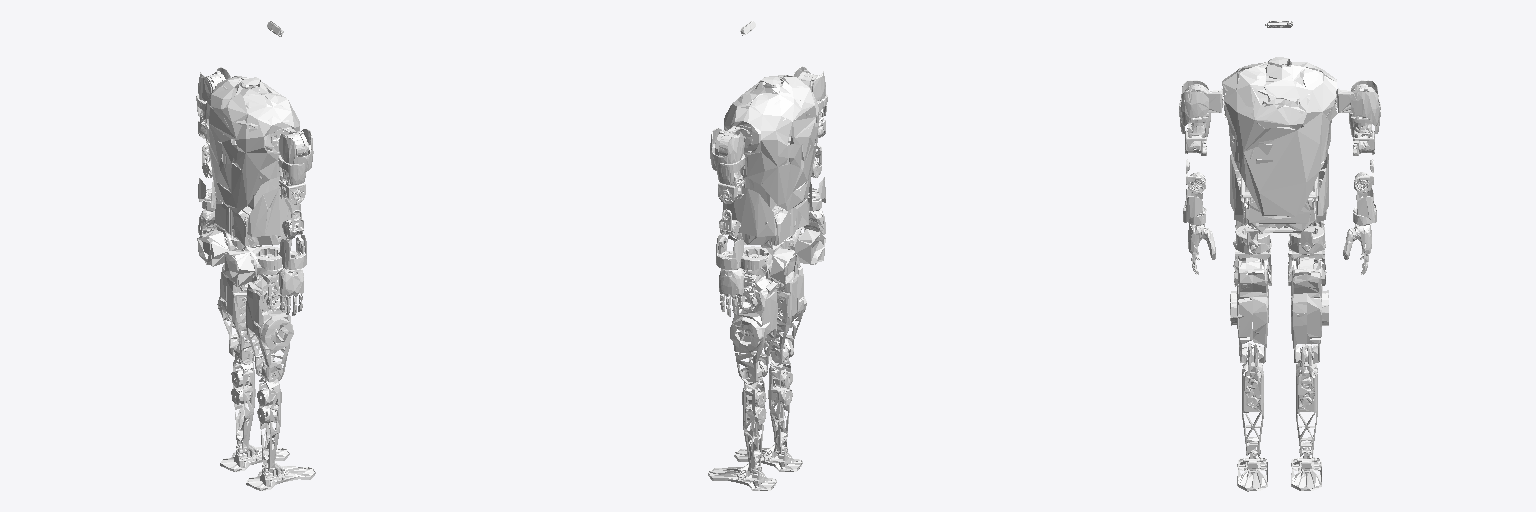
--- Facts derived from the render (not from the file) ---
Views: 3 orthographic renders of the robot side by side, from view 1: azimuth 30°, elevation 25°; view 2: azimuth 150°, elevation 25°; view 3: azimuth 270°, elevation 25°.
Robot: biped_s42 — 46 links, 45 joints (28 revolute, 16 fixed, 1 floating); root link dummy_link; default pose: every joint at zero.
Visible links, largest first — view 1: base_link, leg_r3_link, leg_l3_link, leg_l4_link, leg_r4_link, zarm_r7_link, leg_r6_link, leg_l6_link, zarm_r2_link, leg_r1_link, zarm_l7_link, zarm_r1_link (+1 smaller); view 2: base_link, leg_l3_link, leg_r3_link, leg_r4_link, leg_l4_link, zarm_l7_link, leg_l6_link, leg_r6_link, zarm_l2_link, leg_l1_link, zarm_r7_link, zarm_l1_link; view 3: base_link, leg_l3_link, leg_r3_link, leg_r4_link, leg_l4_link, zarm_l7_link, zarm_r7_link, leg_l6_link, leg_r6_link, zarm_r2_link, zarm_l2_link, leg_r1_link (+3 smaller).
Link boxes in pixels (x1=…): base_link: x1=197, y1=76, x2=300, y2=286; leg_r3_link: x1=246, y1=277, x2=293, y2=383; leg_l3_link: x1=217, y1=263, x2=263, y2=364; leg_l4_link: x1=231, y1=339, x2=255, y2=452; leg_r4_link: x1=257, y1=357, x2=281, y2=472; zarm_r7_link: x1=278, y1=235, x2=306, y2=315; leg_r6_link: x1=246, y1=462, x2=315, y2=490; leg_l6_link: x1=220, y1=443, x2=289, y2=471; zarm_r2_link: x1=279, y1=129, x2=313, y2=171; leg_r1_link: x1=250, y1=246, x2=282, y2=275; zarm_l7_link: x1=198, y1=178, x2=216, y2=235; zarm_r1_link: x1=271, y1=127, x2=308, y2=156; base_link: x1=723, y1=75, x2=825, y2=284; leg_l3_link: x1=730, y1=277, x2=777, y2=384; leg_r3_link: x1=764, y1=265, x2=806, y2=365; leg_r4_link: x1=768, y1=339, x2=792, y2=454; leg_l4_link: x1=742, y1=358, x2=766, y2=473; zarm_l7_link: x1=716, y1=234, x2=744, y2=316; leg_l6_link: x1=708, y1=463, x2=776, y2=490; leg_r6_link: x1=734, y1=444, x2=802, y2=471; zarm_l2_link: x1=710, y1=128, x2=744, y2=171; leg_l1_link: x1=740, y1=246, x2=772, y2=274; zarm_r7_link: x1=804, y1=177, x2=825, y2=234; zarm_l1_link: x1=715, y1=126, x2=752, y2=156; base_link: x1=1222, y1=57, x2=1337, y2=253; leg_l3_link: x1=1291, y1=257, x2=1328, y2=363; leg_r3_link: x1=1230, y1=257, x2=1268, y2=363; leg_r4_link: x1=1242, y1=343, x2=1263, y2=456; leg_l4_link: x1=1296, y1=344, x2=1317, y2=456; zarm_l7_link: x1=1343, y1=188, x2=1376, y2=274; zarm_r7_link: x1=1183, y1=188, x2=1215, y2=274; leg_l6_link: x1=1291, y1=447, x2=1321, y2=490; leg_r6_link: x1=1237, y1=448, x2=1267, y2=491; zarm_r2_link: x1=1179, y1=80, x2=1208, y2=125; zarm_l2_link: x1=1350, y1=80, x2=1380, y2=125; leg_r1_link: x1=1233, y1=223, x2=1271, y2=254.
Bounding box of the posed robot: 0.3173 × 0.6499 × 1.63 m (x, y, z).
Meshes: 31 distinct files referenced, 26 mesh visuals loaded (26 binary STL); not drawn: 5 (reference not matched to a file when rendering).

URDF robot description (biped_s42):
<?xml version='1.0' encoding='utf-8'?>
<robot name="biped_s42">
  <mujoco>
    <compiler meshdir="../meshes/" balanceinertia="true" discardvisual="false" />
  </mujoco>
  <link name="dummy_link" />
  <link name="base_link">
    <inertial>
      <origin xyz="-0.0185005 0.00031952 0.1929569" rpy="0 0 0" />
      <mass value="22.92233803" />
      <inertia ixx="0.93103133" ixy="0.00011763" ixz="-0.07210993" iyy="0.82590532" iyz="6.88e-06" izz="0.27686612" />
    </inertial>
    <visual>
      <origin xyz="0 0 0" rpy="0 0 0" />
      <geometry>
        <mesh filename="package://kuavo_assets/models/biped_s42/meshes/torso.STL" />
      </geometry>
      <material name="">
        <color rgba="1 1 1 1" />
      </material>
    </visual>
  </link>
  <joint name="dummy_to_base_link" type="floating">
    <origin xyz="0 0 0" rpy="0 0 0" />
    <parent link="dummy_link" />
    <child link="base_link" />
  </joint>
  <link name="leg_l1_link">
    <inertial>
      <origin xyz="-0.00430148 -2.708e-05 -0.00851195" rpy="0 0 0" />
      <mass value="1.71093115" />
      <inertia ixx="0.00206092" ixy="1.97e-06" ixz="6.944e-05" iyy="0.00277274" iyz="-5.1e-06" izz="0.00370826" />
    </inertial>
    <visual>
      <origin xyz="0 0 0" rpy="0 0 0" />
      <geometry>
        <mesh filename="package://kuavo_assets/models/biped_s42/meshes/l_leg_roll.STL" />
      </geometry>
      <material name="">
        <color rgba="1 1 1 1" />
      </material>
    </visual>
  </link>
  <joint name="leg_l1_joint" type="revolute">
    <origin xyz="-0.0024999 0.087 -0.066" rpy="0 0 0" />
    <parent link="base_link" />
    <child link="leg_l1_link" />
    <axis xyz="1 0 0" />
    <limit lower="-0.314159265358979" upper="0.663225115757845" effort="180.0" velocity="23.55" />
  </joint>
  <link name="leg_l2_link">
    <inertial>
      <origin xyz="0.0 -0.00231118 -0.09062539" rpy="0 0 0" />
      <mass value="0.58029165" />
      <inertia ixx="0.00223984" ixy="0.0" ixz="3e-08" iyy="0.00123175" iyz="-6.98e-06" izz="0.00146391" />
    </inertial>
    <visual>
      <origin xyz="0 0 0" rpy="0 0 0" />
      <geometry>
        <mesh filename="package://kuavo_assets/models/biped_s42/meshes/l_leg_yaw.STL" />
      </geometry>
      <material name="">
        <color rgba="1 1 1 1" />
      </material>
    </visual>
  </link>
  <joint name="leg_l2_joint" type="revolute">
    <origin xyz="0 0 0" rpy="0 0 0" />
    <parent link="leg_l1_link" />
    <child link="leg_l2_link" />
    <axis xyz="0 0 1" />
    <limit lower="-0.872664625997165" upper="0.785398163397448" effort="100.0" velocity="41.3433333333333" />
  </joint>
  <link name="leg_l3_link">
    <inertial>
      <origin xyz="0.00150537 0.01199614 -0.08411619" rpy="0 0 0" />
      <mass value="4.50393141" />
      <inertia ixx="0.0389365" ixy="7.866e-05" ixz="0.00102086" iyy="0.03942609" iyz="0.00219138" izz="0.00999961" />
    </inertial>
    <visual>
      <origin xyz="0 0 0" rpy="0 0 0" />
      <geometry>
        <mesh filename="package://kuavo_assets/models/biped_s42/meshes/l_leg_pitch.STL" />
      </geometry>
      <material name="">
        <color rgba="1 1 1 1" />
      </material>
    </visual>
  </link>
  <joint name="leg_l3_joint" type="revolute">
    <origin xyz="0.000500354536093913 -0.00100000000000011 -0.1287" rpy="0 0 0" />
    <parent link="leg_l2_link" />
    <child link="leg_l3_link" />
    <axis xyz="0 1 0" />
    <limit lower="-2.00712863979348" upper="1.5707963267949" effort="100.0" velocity="41.3433333333333" />
  </joint>
  <link name="leg_l4_link">
    <inertial>
      <origin xyz="0.00696242 5.314e-05 -0.11549851" rpy="0 0 0" />
      <mass value="1.62776815" />
      <inertia ixx="0.01243912" ixy="-2.29e-06" ixz="5.881e-05" iyy="0.01229563" iyz="-2.895e-05" izz="0.00097937" />
    </inertial>
    <visual>
      <origin xyz="0 0 0" rpy="0 0 0" />
      <geometry>
        <mesh filename="package://kuavo_assets/models/biped_s42/meshes/l_knee.STL" />
      </geometry>
      <material name="">
        <color rgba="1 1 1 1" />
      </material>
    </visual>
  </link>
  <joint name="leg_l4_joint" type="revolute">
    <origin xyz="-6.87185435835039E-05 0 -0.284" rpy="0 0 0" />
    <parent link="leg_l3_link" />
    <child link="leg_l4_link" />
    <axis xyz="0 1 0" />
    <limit lower="0.0" upper="2.53072741539178" effort="180.0" velocity="23.55" />
  </joint>
  <link name="leg_l5_link">
    <inertial>
      <origin xyz="0.0 0.0 0.0" rpy="0 0 0" />
      <mass value="0.07193524" />
      <inertia ixx="6.92e-06" ixy="0.0" ixz="0.0" iyy="6.92e-06" iyz="0.0" izz="1.218e-05" />
    </inertial>
    <visual>
      <origin xyz="0 0 0" rpy="0 0 0" />
      <geometry>
        <mesh filename="package://kuavo_assets/models/biped_s42/meshes/l_foot_pitch.STL" />
      </geometry>
      <material name="">
        <color rgba="1 1 1 1" />
      </material>
    </visual>
  </link>
  <joint name="leg_l5_joint" type="revolute">
    <origin xyz="-0.000431635992531742 0 -0.346000000000001" rpy="0 0 0" />
    <parent link="leg_l4_link" />
    <child link="leg_l5_link" />
    <axis xyz="0 1 0" />
    <limit lower="-0.872664625997165" upper="0.349065850398866" effort="36.0" velocity="23.0266666666667" />
  </joint>
  <link name="leg_l6_link">
    <inertial>
      <origin xyz="0.03732754 -2.22e-06 -0.03883977" rpy="0 0 0" />
      <mass value="0.49861272" />
      <inertia ixx="0.00039242" ixy="3e-08" ixz="4.664e-05" iyy="0.00158655" iyz="0.0" izz="0.00172576" />
    </inertial>
    <visual>
      <origin xyz="0 0 0" rpy="0 0 0" />
      <geometry>
        <mesh filename="package://kuavo_assets/models/biped_s42/meshes/l_foot_roll.STL" />
      </geometry>
      <material name="">
        <color rgba="1 1 1 1" />
      </material>
    </visual>
  </link>
  <joint name="leg_l6_joint" type="revolute">
    <origin xyz="0 0 0" rpy="0 0 0" />
    <parent link="leg_l5_link" />
    <child link="leg_l6_link" />
    <axis xyz="1 0 0" />
    <limit lower="-0.261799387799149" upper="0.261799387799149" effort="36.0" velocity="23.0266666666667" />
  </joint>
  <link name="ll_foot_toe">
    <collision>
      <origin rpy="0 0 0" xyz="0 0 0" />
      <geometry>
        <sphere radius="0.005" />
      </geometry>
    </collision>
  </link>
  <joint name="ll_foot_toe_joint" type="fixed">
    <origin xyz="0.17084 0.04773 -0.0595" rpy="0 0 0" />
    <parent link="leg_l6_link" />
    <child link="ll_foot_toe" />
  </joint>
  <link name="ll_foot_heel">
    <collision>
      <origin rpy="0 0 0" xyz="0 0 0" />
      <geometry>
        <sphere radius="0.005" />
      </geometry>
    </collision>
  </link>
  <joint name="ll_foot_heel_joint" type="fixed">
    <origin xyz="-0.073164 0.04773 -0.0595" rpy="0 0 0" />
    <parent link="leg_l6_link" />
    <child link="ll_foot_heel" />
  </joint>
  <link name="lr_foot_toe">
    <collision>
      <origin rpy="0 0 0" xyz="0 0 0" />
      <geometry>
        <sphere radius="0.005" />
      </geometry>
    </collision>
  </link>
  <joint name="lr_foot_toe_joint" type="fixed">
    <origin xyz="0.17084 -0.04773 -0.0595" rpy="0 0 0" />
    <parent link="leg_l6_link" />
    <child link="lr_foot_toe" />
  </joint>
  <link name="lr_foot_heel">
    <collision>
      <origin rpy="0 0 0" xyz="0 0 0" />
      <geometry>
        <sphere radius="0.005" />
      </geometry>
    </collision>
  </link>
  <joint name="lr_foot_heel_joint" type="fixed">
    <origin xyz="-0.073164 -0.04773 -0.0595" rpy="0 0 0" />
    <parent link="leg_l6_link" />
    <child link="lr_foot_heel" />
  </joint>
  <link name="l_foot_toe">
    <collision>
      <origin rpy="0 0 0" xyz="0 0 0" />
      <geometry>
        <sphere radius="0.005" />
      </geometry>
    </collision>
  </link>
  <joint name="l_foot_toe_joint" type="fixed">
    <origin xyz="0.17084 0.0 -0.0595" rpy="0 0 0" />
    <parent link="leg_l6_link" />
    <child link="l_foot_toe" />
  </joint>
  <link name="l_foot_heel">
    <collision>
      <origin rpy="0 0 0" xyz="0 0 0" />
      <geometry>
        <sphere radius="0.005" />
      </geometry>
    </collision>
  </link>
  <joint name="l_foot_heel_joint" type="fixed">
    <origin xyz="-0.073164 0.0 -0.0595" rpy="0 0 0" />
    <parent link="leg_l6_link" />
    <child link="l_foot_heel" />
  </joint>
  <link name="leg_r1_link">
    <inertial>
      <origin xyz="-0.00430146 2.709e-05 -0.00851195" rpy="0 0 0" />
      <mass value="1.71093008" />
      <inertia ixx="0.00206092" ixy="-1.97e-06" ixz="6.944e-05" iyy="0.00277274" iyz="5.1e-06" izz="0.00370826" />
    </inertial>
    <visual>
      <origin xyz="0 0 0" rpy="0 0 0" />
      <geometry>
        <mesh filename="package://kuavo_assets/models/biped_s42/meshes/r_leg_roll.STL" />
      </geometry>
      <material name="">
        <color rgba="1 1 1 1" />
      </material>
    </visual>
  </link>
  <joint name="leg_r1_joint" type="revolute">
    <origin xyz="-0.0024999 -0.087 -0.066" rpy="0 0 0" />
    <parent link="base_link" />
    <child link="leg_r1_link" />
    <axis xyz="1 0 0" />
    <limit lower="-0.663225115757845" upper="0.314159265358979" effort="180.0" velocity="23.55" />
  </joint>
  <link name="leg_r2_link">
    <inertial>
      <origin xyz="0.0 0.00231118 -0.09062539" rpy="0 0 0" />
      <mass value="0.58029165" />
      <inertia ixx="0.00223984" ixy="0.0" ixz="-3e-08" iyy="0.00123175" iyz="6.98e-06" izz="0.00146391" />
    </inertial>
    <visual>
      <origin xyz="0 0 0" rpy="0 0 0" />
      <geometry>
        <mesh filename="package://kuavo_assets/models/biped_s42/meshes/r_leg_yaw.STL" />
      </geometry>
      <material name="">
        <color rgba="1 1 1 1" />
      </material>
    </visual>
  </link>
  <joint name="leg_r2_joint" type="revolute">
    <origin xyz="0 0 0" rpy="0 0 0" />
    <parent link="leg_r1_link" />
    <child link="leg_r2_link" />
    <axis xyz="0 0 1" />
    <limit lower="-0.785398163397448" upper="0.872664625997165" effort="100.0" velocity="41.3433333333333" />
  </joint>
  <link name="leg_r3_link">
    <inertial>
      <origin xyz="0.00208315 -0.01199644 -0.08411379" rpy="0 0 0" />
      <mass value="4.50385993" />
      <inertia ixx="0.03893478" ixy="-7.792e-05" ixz="0.00103064" iyy="0.03942522" iyz="-0.00219154" izz="0.01000016" />
    </inertial>
    <visual>
      <origin xyz="0 0 0" rpy="0 0 0" />
      <geometry>
        <mesh filename="package://kuavo_assets/models/biped_s42/meshes/r_leg_pitch.STL" />
      </geometry>
      <material name="">
        <color rgba="1 1 1 1" />
      </material>
    </visual>
  </link>
  <joint name="leg_r3_joint" type="revolute">
    <origin xyz="-4.88006581312577E-05 0 -0.1287" rpy="0 0 0" />
    <parent link="leg_r2_link" />
    <child link="leg_r3_link" />
    <axis xyz="0 1 0" />
    <limit lower="-2.00712863979348" upper="1.5707963267949" effort="100.0" velocity="41.3433333333333" />
  </joint>
  <link name="leg_r4_link">
    <inertial>
      <origin xyz="0.00743231 -5.343e-05 -0.11558701" rpy="0 0 0" />
      <mass value="1.62655699" />
      <inertia ixx="0.01241258" ixy="2.28e-06" ixz="6.289e-05" iyy="0.0122692" iyz="2.902e-05" izz="0.00097927" />
    </inertial>
    <visual>
      <origin xyz="0 0 0" rpy="0 0 0" />
      <geometry>
        <mesh filename="package://kuavo_assets/models/biped_s42/meshes/r_knee.STL" />
      </geometry>
      <material name="">
        <color rgba="1 1 1 1" />
      </material>
    </visual>
  </link>
  <joint name="leg_r4_joint" type="revolute">
    <origin xyz="0.000147138572785148 0 -0.283999982974744" rpy="0 0 0" />
    <parent link="leg_r3_link" />
    <child link="leg_r4_link" />
    <axis xyz="0 1 0" />
    <limit lower="0.0" upper="2.53072741539178" effort="180.0" velocity="23.55" />
  </joint>
  <link name="leg_r5_link">
    <inertial>
      <origin xyz="0.0 0.0 0.0" rpy="0 0 0" />
      <mass value="0.07193524" />
      <inertia ixx="6.92e-06" ixy="0.0" ixz="0.0" iyy="6.92e-06" iyz="0.0" izz="1.218e-05" />
    </inertial>
    <visual>
      <origin xyz="0 0 0" rpy="0 0 0" />
      <geometry>
        <mesh filename="package://kuavo_assets/models/biped_s42/meshes/r_foot_pitch.STL" />
      </geometry>
      <material name="">
        <color rgba="1 1 1 1" />
      </material>
    </visual>
  </link>
  <joint name="leg_r5_joint" type="revolute">
    <origin xyz="0.000119806050928577 0 -0.345999979257963" rpy="0 0 0" />
    <parent link="leg_r4_link" />
    <child link="leg_r5_link" />
    <axis xyz="0 1 0" />
    <limit lower="-0.872664625997165" upper="0.349065850398866" effort="36.0" velocity="23.0266666666667" />
  </joint>
  <link name="leg_r6_link">
    <inertial>
      <origin xyz="0.03734098 -2.22e-06 -0.03882684" rpy="0 0 0" />
      <mass value="0.49861272" />
      <inertia ixx="0.00039238" ixy="3e-08" ixz="4.618e-05" iyy="0.00158655" iyz="0.0" izz="0.00172579" />
    </inertial>
    <visual>
      <origin xyz="0 0 0" rpy="0 0 0" />
      <geometry>
        <mesh filename="package://kuavo_assets/models/biped_s42/meshes/r_foot_roll.STL" />
      </geometry>
      <material name="">
        <color rgba="1 1 1 1" />
      </material>
    </visual>
  </link>
  <joint name="leg_r6_joint" type="revolute">
    <origin xyz="0 0 0" rpy="0 0 0" />
    <parent link="leg_r5_link" />
    <child link="leg_r6_link" />
    <axis xyz="1 0 0" />
    <limit lower="-0.261799387799149" upper="0.261799387799149" effort="36.0" velocity="23.0266666666667" />
  </joint>
  <link name="rl_foot_toe">
    <collision>
      <origin rpy="0 0 0" xyz="0 0 0" />
      <geometry>
        <sphere radius="0.005" />
      </geometry>
    </collision>
  </link>
  <joint name="rl_foot_toe_joint" type="fixed">
    <origin xyz="0.17084 0.04773 -0.0595" rpy="0 0 0" />
    <parent link="leg_r6_link" />
    <child link="rl_foot_toe" />
  </joint>
  <link name="rl_foot_heel">
    <collision>
      <origin rpy="0 0 0" xyz="0 0 0" />
      <geometry>
        <sphere radius="0.005" />
      </geometry>
    </collision>
  </link>
  <joint name="rl_foot_heel_joint" type="fixed">
    <origin xyz="-0.073164 0.04773 -0.0595" rpy="0 0 0" />
    <parent link="leg_r6_link" />
    <child link="rl_foot_heel" />
  </joint>
  <link name="rr_foot_toe">
    <collision>
      <origin rpy="0 0 0" xyz="0 0 0" />
      <geometry>
        <sphere radius="0.005" />
      </geometry>
    </collision>
  </link>
  <joint name="rr_foot_toe_joint" type="fixed">
    <origin xyz="0.17084 -0.04773 -0.0595" rpy="0 0 0" />
    <parent link="leg_r6_link" />
    <child link="rr_foot_toe" />
  </joint>
  <link name="rr_foot_heel">
    <collision>
      <origin rpy="0 0 0" xyz="0 0 0" />
      <geometry>
        <sphere radius="0.005" />
      </geometry>
    </collision>
  </link>
  <joint name="rr_foot_heel_joint" type="fixed">
    <origin xyz="-0.073164 -0.04773 -0.0595" rpy="0 0 0" />
    <parent link="leg_r6_link" />
    <child link="rr_foot_heel" />
  </joint>
  <link name="r_foot_toe">
    <collision>
      <origin rpy="0 0 0" xyz="0 0 0" />
      <geometry>
        <sphere radius="0.005" />
      </geometry>
    </collision>
  </link>
  <joint name="r_foot_toe_joint" type="fixed">
    <origin xyz="0.17084 0.0 -0.0595" rpy="0 0 0" />
    <parent link="leg_r6_link" />
    <child link="r_foot_toe" />
  </joint>
  <link name="r_foot_heel">
    <collision>
      <origin rpy="0 0 0" xyz="0 0 0" />
      <geometry>
        <sphere radius="0.005" />
      </geometry>
    </collision>
  </link>
  <joint name="r_foot_heel_joint" type="fixed">
    <origin xyz="-0.073164 0.0 -0.0595" rpy="0 0 0" />
    <parent link="leg_r6_link" />
    <child link="r_foot_heel" />
  </joint>
  <link name="zarm_l1_link">
    <inertial>
      <origin xyz="0.008 -0.00158 0.0036" rpy="0 0 0" />
      <mass value="1.15" />
      <inertia ixx="0.0006" ixy="5e-05" ixz="1e-05" iyy="0.00048" iyz="-6e-05" izz="0.0007" />
    </inertial>
    <visual>
      <origin xyz="0 0 0" rpy="0 0 0" />
      <geometry>
        <mesh filename="package://kuavo_assets/models/biped_s42/meshes/l_arm_pitch.STL" />
      </geometry>
      <material name="">
        <color rgba="1 1 1 1" />
      </material>
    </visual>
  </link>
  <joint name="zarm_l1_joint" type="revolute">
    <origin xyz="-0.017499853 0.26686 0.4245" rpy="0 0 0" />
    <parent link="base_link" />
    <child link="zarm_l1_link" />
    <axis xyz="0 1 0" />
    <limit lower="-2.61799387799149" upper="0.523598775598299" effort="100.0" velocity="41.3433333333333" />
  </joint>
  <link name="zarm_l2_link">
    <inertial>
      <origin xyz="0.00144 0.02159 -0.0202" rpy="0 0 0" />
      <mass value="0.226" />
      <inertia ixx="0.0003" ixy="3e-05" ixz="1e-05" iyy="0.00061" iyz="5e-05" izz="0.00057" />
    </inertial>
    <visual>
      <origin xyz="0 0 0" rpy="0 0 0" />
      <geometry>
        <mesh filename="package://kuavo_assets/models/biped_s42/meshes/l_arm_roll.STL" />
      </geometry>
      <material name="">
        <color rgba="1 1 1 1" />
      </material>
    </visual>
  </link>
  <joint name="zarm_l2_joint" type="revolute">
    <origin xyz="0 0 0" rpy="0 0 0" />
    <parent link="zarm_l1_link" />
    <child link="zarm_l2_link" />
    <axis xyz="1 0 0" />
    <limit lower="-0.349065850398866" upper="2.0943951023932" effort="50.0" velocity="19.154" />
  </joint>
  <link name="zarm_l3_link">
    <inertial>
      <origin xyz="-0.00157 -3e-05 -0.13318" rpy="0 0 0" />
      <mass value="1.166" />
      <inertia ixx="0.00245" ixy="-1e-05" ixz="-1e-05" iyy="0.0022" iyz="0.0" izz="0.00112" />
    </inertial>
    <visual>
      <origin xyz="0 0 0" rpy="0 0 0" />
      <geometry>
        <mesh filename="package://kuavo_assets/models/biped_s42/meshes/l_arm_yaw.STL" />
      </geometry>
      <material name="">
        <color rgba="1 1 1 1" />
      </material>
    </visual>
  </link>
  <joint name="zarm_l3_joint" type="revolute">
    <origin xyz="0 0 0" rpy="0 0 0" />
    <parent link="zarm_l2_link" />
    <child link="zarm_l3_link" />
    <axis xyz="0 0 1" />
    <limit lower="-1.5707963267949" upper="1.5707963267949" effort="20.0" velocity="18.84" />
  </joint>
  <link name="zarm_l4_link">
    <inertial>
      <origin xyz="-4e-05 0.0098 -0.05283" rpy="0 0 0" />
      <mass value="0.575" />
      <inertia ixx="0.00098" ixy="0.0" ixz="0.0" iyy="0.00062" iyz="-0.00016" izz="0.00088" />
    </inertial>
    <visual>
      <origin xyz="0 0 0" rpy="0 0 0" />
      <geometry>
        <mesh filename="package://kuavo_assets/models/biped_s42/meshes/l_forearm.STL" />
      </geometry>
      <material name="">
        <color rgba="1 1 1 1" />
      </material>
    </visual>
  </link>
  <joint name="zarm_l4_joint" type="revolute">
    <origin xyz="0 0 -0.1646" rpy="0 0 0" />
    <parent link="zarm_l3_link" />
    <child link="zarm_l4_link" />
    <axis xyz="0 1 0" />
    <limit lower="-1.5707963267949" upper="0.0" effort="20.0" velocity="18.84" />
  </joint>
  <link name="zarm_l5_link">
    <inertial>
      <origin xyz="-0.00011 0.00421 -0.11168" rpy="0 0 0" />
      <mass value="0.46" />
      <inertia ixx="0.00077" ixy="0.0" ixz="0.0" iyy="0.0005" iyz="-4e-05" izz="0.00063" />
    </inertial>
    <visual>
      <origin xyz="0 0 0" rpy="0 0 0" />
      <geometry>
        <mesh filename="package://kuavo_assets/models/biped_s42/meshes/l_hand_yaw.STL" />
      </geometry>
      <material name="">
        <color rgba="1 1 1 1" />
      </material>
    </visual>
  </link>
  <joint name="zarm_l5_joint" type="revolute">
    <origin xyz="0 0 0" rpy="0 0 0" />
    <parent link="zarm_l4_link" />
    <child link="zarm_l5_link" />
    <axis xyz="0 0 1" />
    <limit lower="-1.5707963267949" upper="1.5707963267949" effort="6.0" velocity="21.666" />
  </joint>
  <link name="zarm_l6_link">
    <inertial>
      <origin xyz="0.00253 0.00382 -0.05356" rpy="0 0 0" />
      <mass value="0.35" />
      <inertia ixx="0.00023" ixy="0.0" ixz="0.0" iyy="0.00024" iyz="-4e-05" izz="0.00019" />
    </inertial>
    <visual>
      <origin xyz="0 0 0" rpy="0 0 0" />
      <geometry>
        <mesh filename="package://kuavo_assets/models/biped_s42/meshes/l_hand_pitch.STL" />
      </geometry>
      <material name="">
        <color rgba="1 1 1 1" />
      </material>
    </visual>
  </link>
  <joint name="zarm_l6_joint" type="revolute">
    <origin xyz="0 0 -0.132050000125748" rpy="0 0 0" />
    <parent link="zarm_l5_link" />
    <child link="zarm_l6_link" />
    <axis xyz="0 1 0" />
    <limit lower="-1.5707963267949" upper="1.5707963267949" effort="6.0" velocity="21.666" />
  </joint>
  <link name="zarm_l7_link">
    <inertial>
      <origin xyz="0.00267 0.00748 -0.07162" rpy="0 0 0" />
      <mass value="0.81" />
      <inertia ixx="0.00117" ixy="2e-05" ixz="0.0" iyy="0.00128" iyz="-2e-05" izz="0.00036" />
    </inertial>
    <visual>
      <origin xyz="0 0 0" rpy="0 0 0" />
      <geometry>
        <mesh filename="package://kuavo_assets/models/biped_s42/meshes/l_hand_roll.STL" />
      </geometry>
      <material name="">
        <color rgba="1 1 1 1" />
      </material>
    </visual>
  </link>
  <joint name="zarm_l7_joint" type="revolute">
    <origin xyz="0 0 -0.0589999999999999" rpy="0 0 0" />
    <parent link="zarm_l6_link" />
    <child link="zarm_l7_link" />
    <axis xyz="1 0 0" />
    <limit lower="-1.5707963267949" upper="1.5707963267949" effort="6.0" velocity="21.666" />
  </joint>
  <link name="zarm_l7_end_effector">
    <collision>
      <origin rpy="0 0 0" xyz="0 0 0" />
      <geometry>
        <sphere radius="0.005" />
      </geometry>
    </collision>
  </link>
  <joint name="zarm_l7_end_effector_joint" type="fixed">
    <origin xyz="0 -0.03 -0.17" rpy="0 0 0" />
    <parent link="zarm_l7_link" />
    <child link="zarm_l7_end_effector" />
  </joint>
  <link name="zarm_r1_link">
    <inertial>
      <origin xyz="0.008 0.00158 -0.0036" rpy="0 0 0" />
      <mass value="1.15" />
      <inertia ixx="0.0006" ixy="-5e-05" ixz="-1e-05" iyy="0.00048" iyz="-6e-05" izz="0.0007" />
    </inertial>
    <visual>
      <origin xyz="0 0 0" rpy="0 0 0" />
      <geometry>
        <mesh filename="package://kuavo_assets/models/biped_s42/meshes/r_arm_pitch.STL" />
      </geometry>
      <material name="">
        <color rgba="1 1 1 1" />
      </material>
    </visual>
  </link>
  <joint name="zarm_r1_joint" type="revolute">
    <origin xyz="-0.017499853 -0.26686 0.4245" rpy="0 0 0" />
    <parent link="base_link" />
    <child link="zarm_r1_link" />
    <axis xyz="0 1 0" />
    <limit lower="-2.61799387799149" upper="0.523598775598299" effort="100.0" velocity="41.3433333333333" />
  </joint>
  <link name="zarm_r2_link">
    <inertial>
      <origin xyz="0.00144 -0.02159 -0.02021" rpy="0 0 0" />
      <mass value="0.226" />
      <inertia ixx="0.0003" ixy="-3e-05" ixz="1e-05" iyy="0.00061" iyz="-5e-05" izz="0.00057" />
    </inertial>
    <visual>
      <origin xyz="0 0 0" rpy="0 0 0" />
      <geometry>
        <mesh filename="package://kuavo_assets/models/biped_s42/meshes/r_arm_roll.STL" />
      </geometry>
      <material name="">
        <color rgba="1 1 1 1" />
      </material>
    </visual>
  </link>
  <joint name="zarm_r2_joint" type="revolute">
    <origin xyz="0 0 0" rpy="0 0 0" />
    <parent link="zarm_r1_link" />
    <child link="zarm_r2_link" />
    <axis xyz="1 0 0" />
    <limit lower="-2.0943951023932" upper="0.349065850398866" effort="50.0" velocity="19.154" />
  </joint>
  <link name="zarm_r3_link">
    <inertial>
      <origin xyz="-0.00157 3e-05 -0.13318" rpy="0 0 0" />
      <mass value="1.166" />
      <inertia ixx="0.00245" ixy="1e-05" ixz="-1e-05" iyy="0.0022" iyz="0.0" izz="0.00112" />
    </inertial>
    <visual>
      <origin xyz="0 0 0" rpy="0 0 0" />
      <geometry>
        <mesh filename="package://kuavo_assets/models/biped_s42/meshes/r_arm_yaw.STL" />
      </geometry>
      <material name="">
        <color rgba="1 1 1 1" />
      </material>
    </visual>
  </link>
  <joint name="zarm_r3_joint" type="revolute">
    <origin xyz="0 0 0" rpy="0 0 0" />
    <parent link="zarm_r2_link" />
    <child link="zarm_r3_link" />
    <axis xyz="0 0 1" />
    <limit lower="-1.5707963267949" upper="1.5707963267949" effort="20.0" velocity="18.84" />
  </joint>
  <link name="zarm_r4_link">
    <inertial>
      <origin xyz="-4e-05 -0.0098 -0.05283" rpy="0 0 0" />
      <mass value="0.575" />
      <inertia ixx="0.00098" ixy="0.0" ixz="0.0" iyy="0.00062" iyz="0.00016" izz="0.00088" />
    </inertial>
    <visual>
      <origin xyz="0 0 0" rpy="0 0 0" />
      <geometry>
        <mesh filename="package://kuavo_assets/models/biped_s42/meshes/r_forearm.STL" />
      </geometry>
      <material name="">
        <color rgba="1 1 1 1" />
      </material>
    </visual>
  </link>
  <joint name="zarm_r4_joint" type="revolute">
    <origin xyz="0 0 -0.1646" rpy="0 0 0" />
    <parent link="zarm_r3_link" />
    <child link="zarm_r4_link" />
    <axis xyz="0 1 0" />
    <limit lower="-1.5707963267949" upper="0.0" effort="20.0" velocity="18.84" />
  </joint>
  <link name="zarm_r5_link">
    <inertial>
      <origin xyz="-0.00011 -0.00421 -0.11168" rpy="0 0 0" />
      <mass value="0.46" />
      <inertia ixx="0.00077" ixy="0.0" ixz="0.0" iyy="0.0005" iyz="4e-05" izz="0.00063" />
    </inertial>
    <visual>
      <origin xyz="0 0 0" rpy="0 0 0" />
      <geometry>
        <mesh filename="package://kuavo_assets/models/biped_s42/meshes/r_hand_yaw.STL" />
      </geometry>
      <material name="">
        <color rgba="1 1 1 1" />
      </material>
    </visual>
  </link>
  <joint name="zarm_r5_joint" type="revolute">
    <origin xyz="0 0 0" rpy="0 0 0" />
    <parent link="zarm_r4_link" />
    <child link="zarm_r5_link" />
    <axis xyz="0 0 1" />
    <limit lower="-1.5707963267949" upper="1.5707963267949" effort="6.0" velocity="21.666" />
  </joint>
  <link name="zarm_r6_link">
    <inertial>
      <origin xyz="0.00253 -0.00382 -0.05356" rpy="0 0 0" />
      <mass value="0.35" />
      <inertia ixx="0.00023" ixy="0.0" ixz="0.0" iyy="0.00024" iyz="4e-05" izz="0.00019" />
    </inertial>
    <visual>
      <origin xyz="0 0 0" rpy="0 0 0" />
      <geometry>
        <mesh filename="package://kuavo_assets/models/biped_s42/meshes/r_hand_pitch.STL" />
      </geometry>
      <material name="">
        <color rgba="1 1 1 1" />
      </material>
    </visual>
  </link>
  <joint name="zarm_r6_joint" type="revolute">
    <origin xyz="0 0 -0.132050000240097" rpy="0 0 0" />
    <parent link="zarm_r5_link" />
    <child link="zarm_r6_link" />
    <axis xyz="0 1 0" />
    <limit lower="-1.5707963267949" upper="1.5707963267949" effort="6.0" velocity="21.666" />
  </joint>
  <link name="zarm_r7_link">
    <inertial>
      <origin xyz="0.00267 -0.00748 -0.07162" rpy="0 0 0" />
      <mass value="0.81" />
      <inertia ixx="0.00098" ixy="-1e-05" ixz="1e-05" iyy="0.00104" iyz="1e-05" izz="0.00027" />
    </inertial>
    <visual>
      <origin xyz="0 0 0" rpy="0 0 0" />
      <geometry>
        <mesh filename="package://kuavo_assets/models/biped_s42/meshes/r_hand_roll.STL" />
      </geometry>
      <material name="">
        <color rgba="1 1 1 1" />
      </material>
    </visual>
  </link>
  <joint name="zarm_r7_joint" type="revolute">
    <origin xyz="0 0 -0.0589999999999999" rpy="0 0 0" />
    <parent link="zarm_r6_link" />
    <child link="zarm_r7_link" />
    <axis xyz="1 0 0" />
    <limit lower="-1.5707963267949" upper="1.5707963267949" effort="6.0" velocity="21.666" />
  </joint>
  <link name="zarm_r7_end_effector">
    <collision>
      <origin rpy="0 0 0" xyz="0 0 0" />
      <geometry>
        <sphere radius="0.005" />
      </geometry>
    </collision>
  </link>
  <joint name="zarm_r7_end_effector_joint" type="fixed">
    <origin xyz="0 0.03 -0.17" rpy="0 0 0" />
    <parent link="zarm_r7_link" />
    <child link="zarm_r7_end_effector" />
  </joint>
  <link name="zhead_1_link">
    <inertial>
      <origin xyz="2e-05 0.00605 -0.01052" rpy="0 0 0" />
      <mass value="0.35" />
      <inertia ixx="7e-05" ixy="0.0" ixz="0.0" iyy="5e-05" iyz="0.0" izz="5e-05" />
    </inertial>
    <visual>
      <origin xyz="0 0 0" rpy="0 0 0" />
      <geometry>
        <mesh filename="package://kuavo_assets/models/biped_s42/meshes/head_yaw.STL" />
      </geometry>
      <material name="">
        <color rgba="1 1 1 1" />
      </material>
    </visual>
  </link>
  <joint name="zhead_1_joint" type="revolute">
    <origin xyz="-0.018499853 0.0 0.6014" rpy="0 0 0" />
    <parent link="base_link" />
    <child link="zhead_1_link" />
    <axis xyz="0 0 1" />
    <limit lower="-1.5707963267949" upper="1.5707963267949" effort="1.5" velocity="5.23333333333333" />
  </joint>
  <link name="zhead_2_link">
    <inertial>
      <origin xyz="0.02648 -0.00142 0.10674" rpy="0 0 0" />
      <mass value="0.5492" />
      <inertia ixx="0.00346" ixy="-3e-05" ixz="0.00017" iyy="0.00348" iyz="-7e-05" izz="0.00222" />
    </inertial>
    <visual>
      <origin xyz="0 0 0" rpy="0 0 0" />
      <geometry>
        <mesh filename="package://kuavo_assets/models/biped_s42/meshes/head_pitch.STL" />
      </geometry>
      <material name="">
        <color rgba="1 1 1 1" />
      </material>
    </visual>
  </link>
  <joint name="zhead_2_joint" type="revolute">
    <origin xyz="0 0 0" rpy="0 0 0" />
    <parent link="zhead_1_link" />
    <child link="zhead_2_link" />
    <axis xyz="0 1 0" />
    <limit lower="-0.523598775598299" upper="0.523598775598299" effort="12.0" velocity="5.23333333333333" />
  </joint>
  <link name="camera">
    <inertial>
      <origin xyz="-0.04257 -0.01736 -0.01161" rpy="0 0 0" />
      <mass value="0.047" />
      <inertia ixx="0.00065" ixy="0.0" ixz="0.00015" iyy="0.00091" iyz="0.0" izz="0.00105" />
    </inertial>
    <visual>
      <origin xyz="0 0 0" rpy="0 0 0" />
      <geometry>
        <mesh filename="package://kuavo_assets/models/biped_s42/meshes/camera.STL" />
      </geometry>
      <material name="">
        <color rgba="1 1 1 1" />
      </material>
    </visual>
  </link>
  <joint name="camera" type="fixed">
    <origin xyz="0.0967509784707853 0.0175003248712456 0.125953265112721" rpy="0 0.488692190558413 0" />
    <parent link="zhead_2_link" />
    <child link="camera" />
  </joint>
  <link name="radar">
    <inertial>
      <origin xyz="-0.00018 1e-05 0.01777" rpy="0 0 0" />
      <mass value="0.2688" />
      <inertia ixx="0.00013" ixy="0.0" ixz="0.0" iyy="0.00014" iyz="0.0" izz="0.00014" />
    </inertial>
    <visual>
      <origin xyz="0 0 0" rpy="0 0 0" />
      <geometry>
        <mesh filename="package://kuavo_assets/models/biped_s42/meshes/radar.STL" />
      </geometry>
      <material name="">
        <color rgba="1 1 1 1" />
      </material>
    </visual>
  </link>
  <joint name="radar" type="fixed">
    <origin xyz="0.0217799337881943 0 0.105417258037133" rpy="0 0.229686043245049 0" />
    <parent link="zhead_2_link" />
    <child link="radar" />
  </joint>
</robot>
